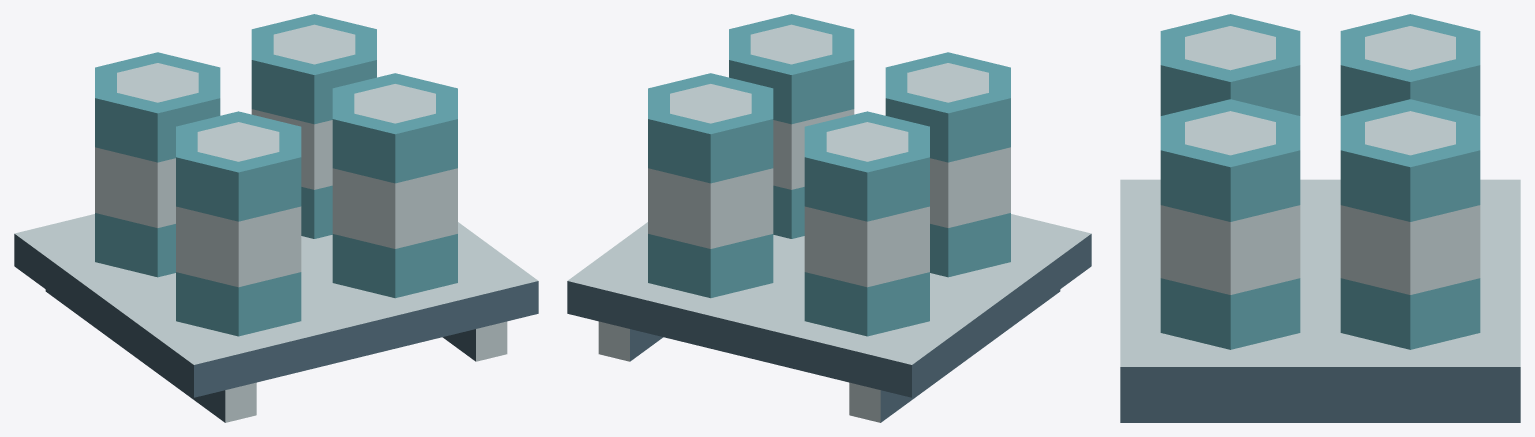
Rendered from barrels.glb.
3 views of the same model, side by side, from view 1: azimuth 30°, elevation 25°; view 2: azimuth 150°, elevation 25°; view 3: azimuth 270°, elevation 25° (orthographic). The views are drawn at different scales.
Visible parts, largest first — view 1: barrel (×4), barrels; view 2: barrel (×4), barrels; view 3: barrel (×4), barrels.
Part boxes in pixels (<box>): barrel (×4): <box>95,14,457,336</box>; barrels: <box>14,214,538,422</box>; barrel (×4): <box>648,14,1010,336</box>; barrels: <box>567,214,1091,422</box>; barrel (×4): <box>1160,14,1480,349</box>; barrels: <box>1120,179,1520,422</box>.
Size of the model in its own units: 0.55 by 0.35 by 0.4964.
